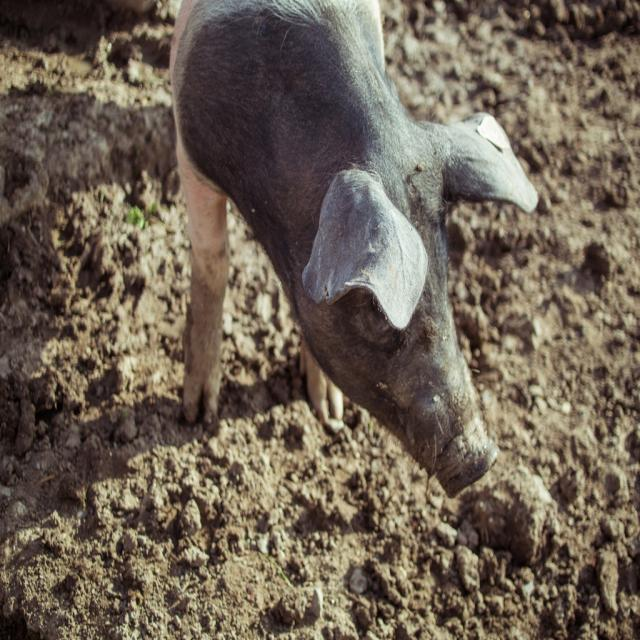Pig: (168, 0, 538, 500)
